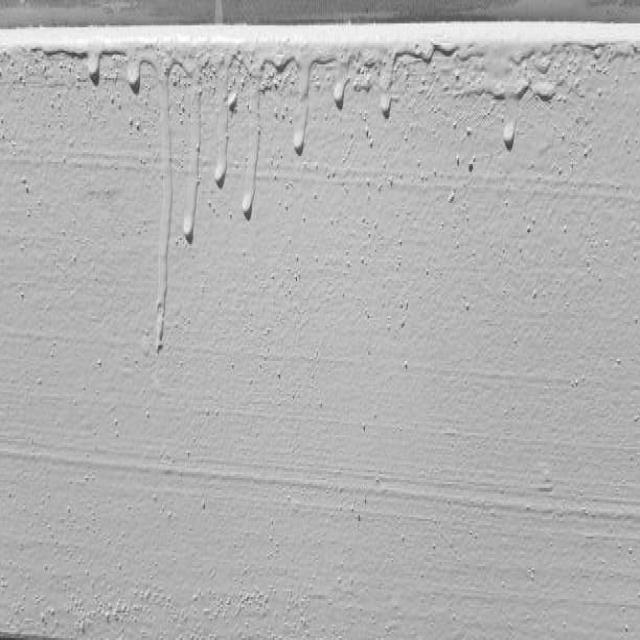paint drips: (41, 36, 640, 367)
